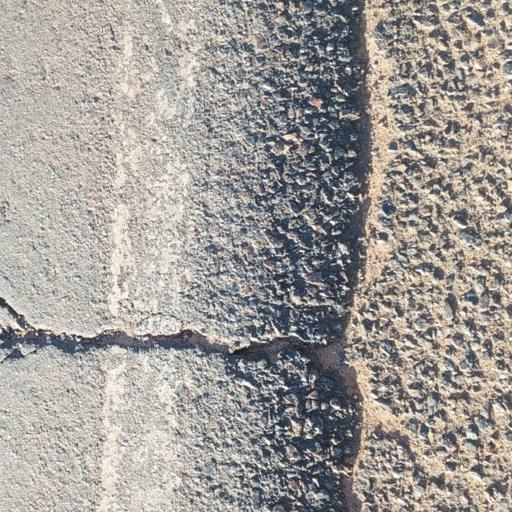GRIETA: (320, 0, 400, 511), (0, 295, 322, 363), (377, 403, 499, 511)
